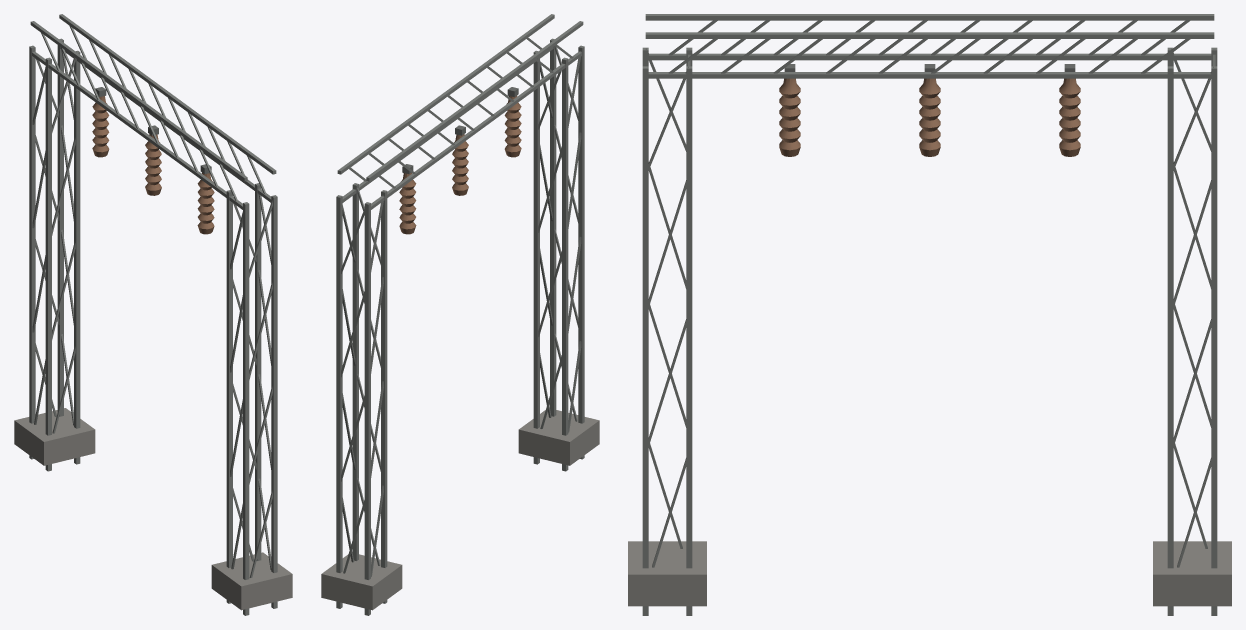
Rendered from SM_Prop_power_gantry_0.glb.
The picture shows the model from 3 angles, left to right: view 1: azimuth 30°, elevation 25°; view 2: azimuth 150°, elevation 25°; view 3: azimuth 270°, elevation 25°; orthographic projection. The views are drawn at different scales.
Parts seen in each view (by area): view 1: SM_Prop_power_gantry_0; view 2: SM_Prop_power_gantry_0; view 3: SM_Prop_power_gantry_0.
Boxes of the visible parts, left/top/right/bottom form: SM_Prop_power_gantry_0: left=14, top=14, right=292, bottom=615; SM_Prop_power_gantry_0: left=321, top=14, right=599, bottom=615; SM_Prop_power_gantry_0: left=628, top=14, right=1231, bottom=615.
Size of the model in its own units: 0.9 by 7.33 by 6.9.
